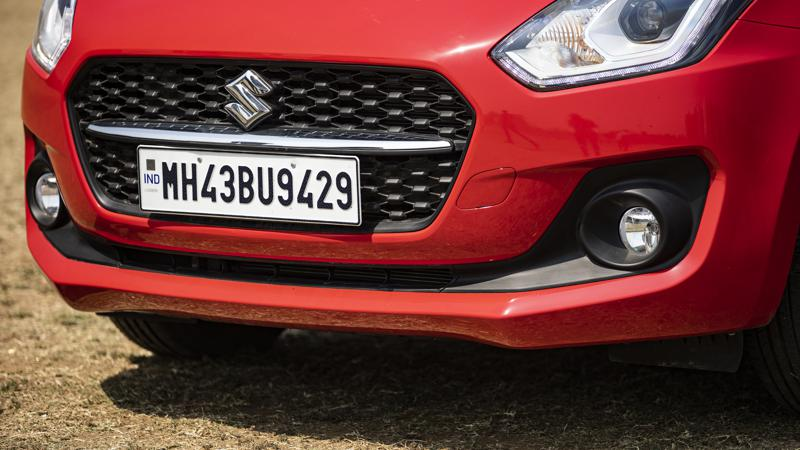number_plate: (129, 140, 369, 240)
